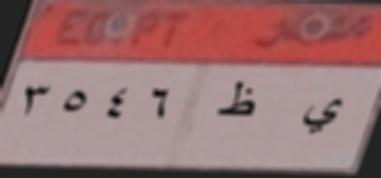3: (22, 79, 53, 121)
4: (104, 84, 128, 122)
5: (60, 85, 91, 114)
6: (151, 83, 170, 121)
Thaa: (216, 76, 258, 126)
yaa: (300, 97, 346, 133)
